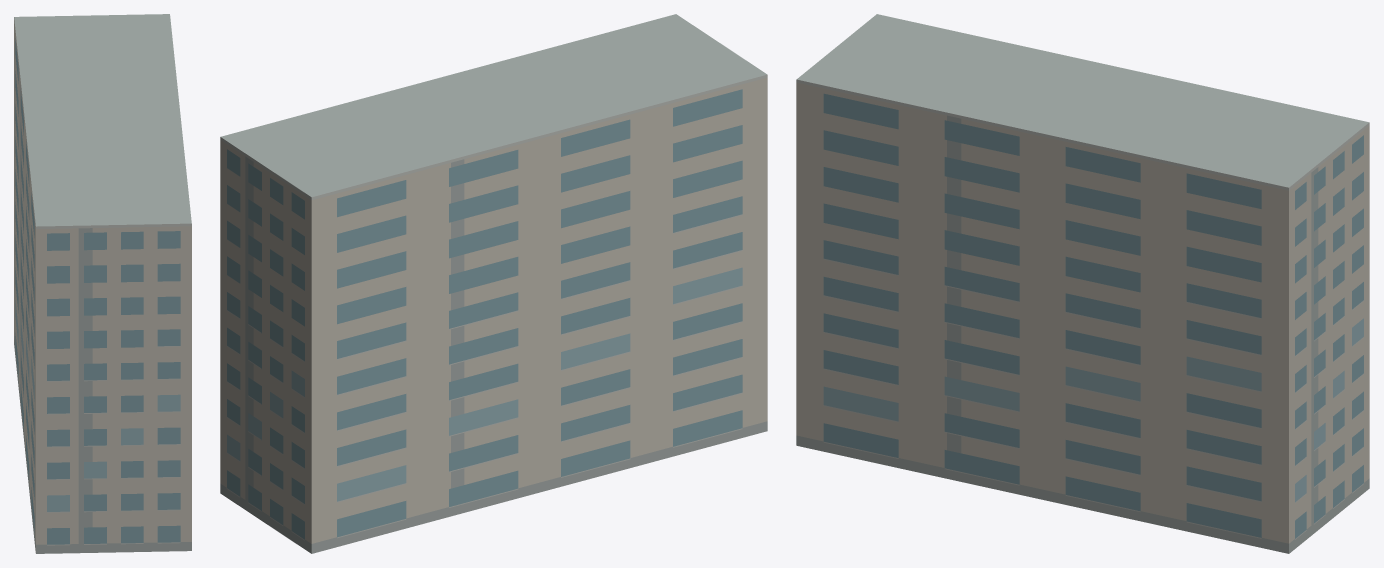
Rendered from residential-c7e197e7-0d3a-4634-be9e-4417ede74f28.glb.
3 renders of one model, left to right at view 1: azimuth 30°, elevation 25°; view 2: azimuth 150°, elevation 25°; view 3: azimuth 270°, elevation 25°, orthographic. The views are drawn at different scales.
Visible parts, largest first — view 1: residential-c7e197e7-0d3a-4634-be9e-4417ede74f28.tmp; view 2: residential-c7e197e7-0d3a-4634-be9e-4417ede74f28.tmp; view 3: residential-c7e197e7-0d3a-4634-be9e-4417ede74f28.tmp.
Boxes of the visible parts, x1=… form: residential-c7e197e7-0d3a-4634-be9e-4417ede74f28.tmp: x1=14, y1=14, x2=191, y2=553; residential-c7e197e7-0d3a-4634-be9e-4417ede74f28.tmp: x1=220, y1=14, x2=767, y2=553; residential-c7e197e7-0d3a-4634-be9e-4417ede74f28.tmp: x1=796, y1=14, x2=1369, y2=553.
Size of the model in its own units: 30.53 by 30 by 42.56.
